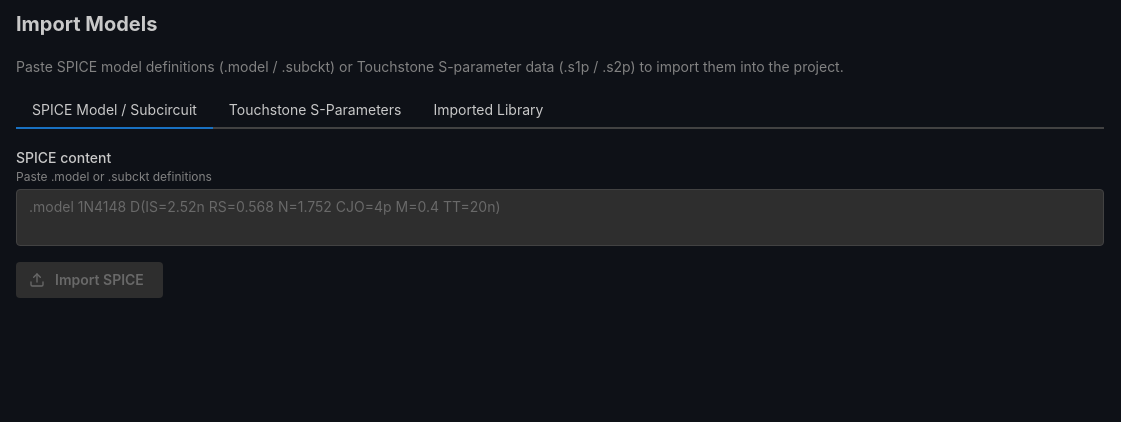
Scenario: ImportModelsScreen › imports SPICE content and shows report
The width and height of the screenshot is (1121, 422).
Replace the text in the text box with placeholder ".model" with ".model D1 D()" at (560, 218), box [16,190,1104,246]
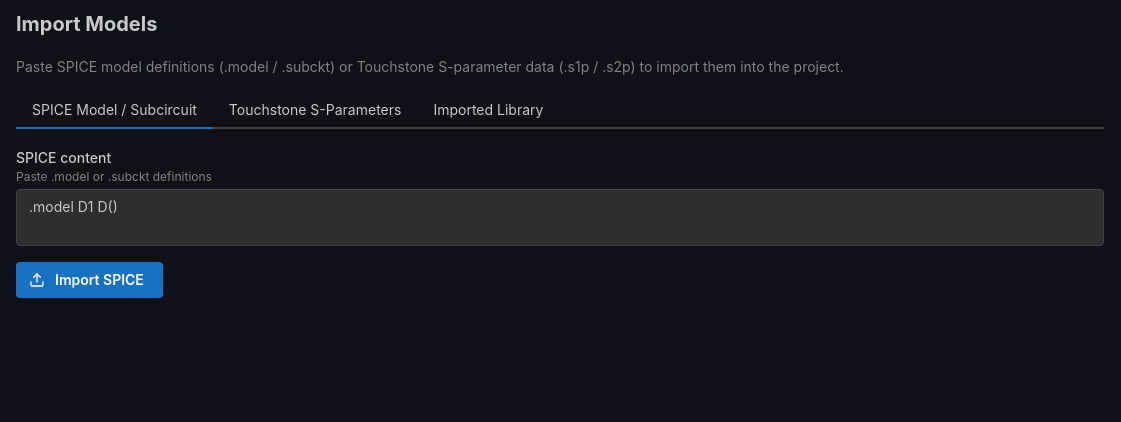
Click the button "Import SPICE".
click(89, 280)  # box [16,262,163,298]
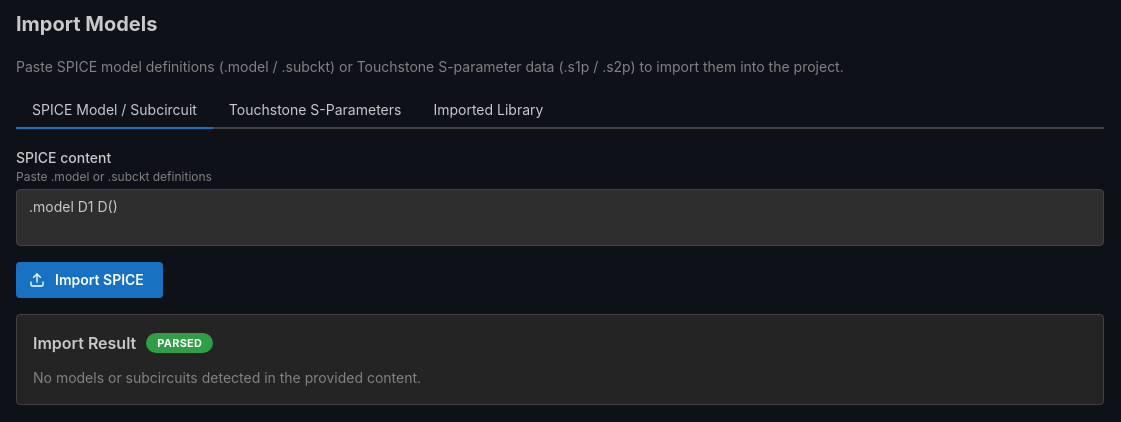
expect the text "Import Result" is shown: met, box [33,331,136,356]
